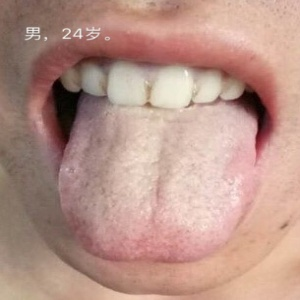st: (67, 103, 259, 256)
